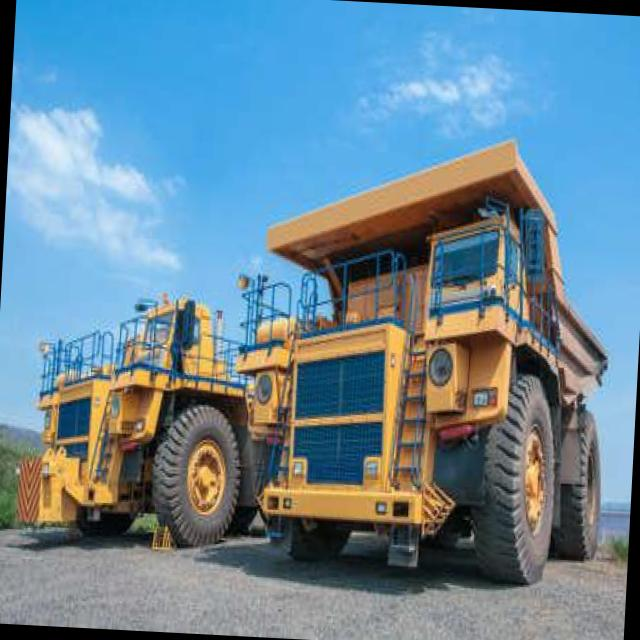Camion volquete: (228, 124, 624, 591), (26, 283, 274, 556)
